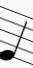E: (0, 4, 26, 63)
